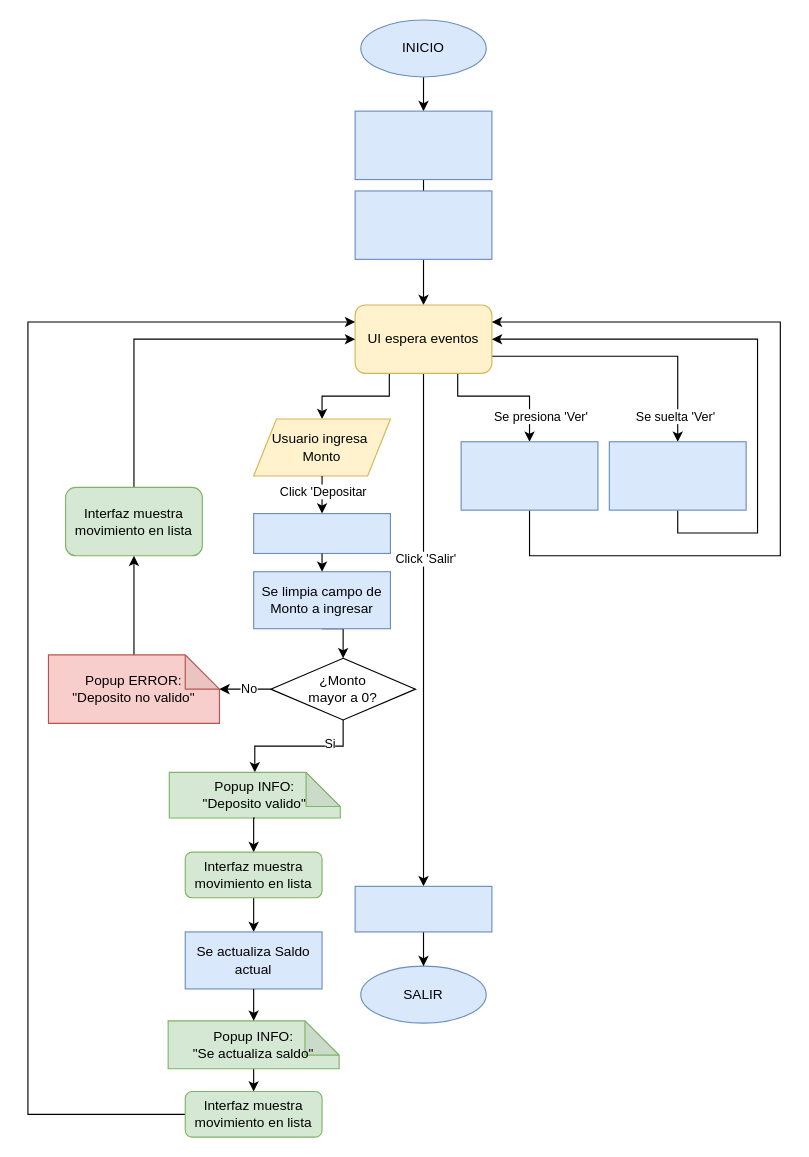
Some shapes in this 809 by 1157 pixel diagram are drawn without their labels. Each missing label, with the box of its shape:
Cerrar aplicación: (354, 885, 492, 932)
Inicialización de aplicación: (354, 110, 492, 180)
Se ingresa Monto: (253, 512, 390, 553)
Se muestra Saldo actual: (460, 441, 598, 510)
Se oculta Saldo actual: (608, 441, 746, 510)
Seteo inicial de atributos y widgets: (354, 190, 492, 259)
